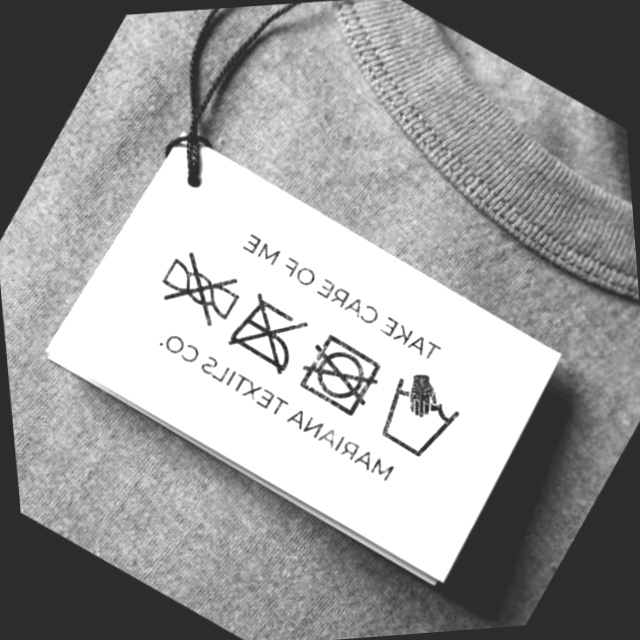DN_iron: (229, 291, 308, 376)
DN_tumble_dry: (301, 331, 386, 414)
DN_wring: (159, 247, 242, 326)
hand_wash: (377, 369, 464, 465)
